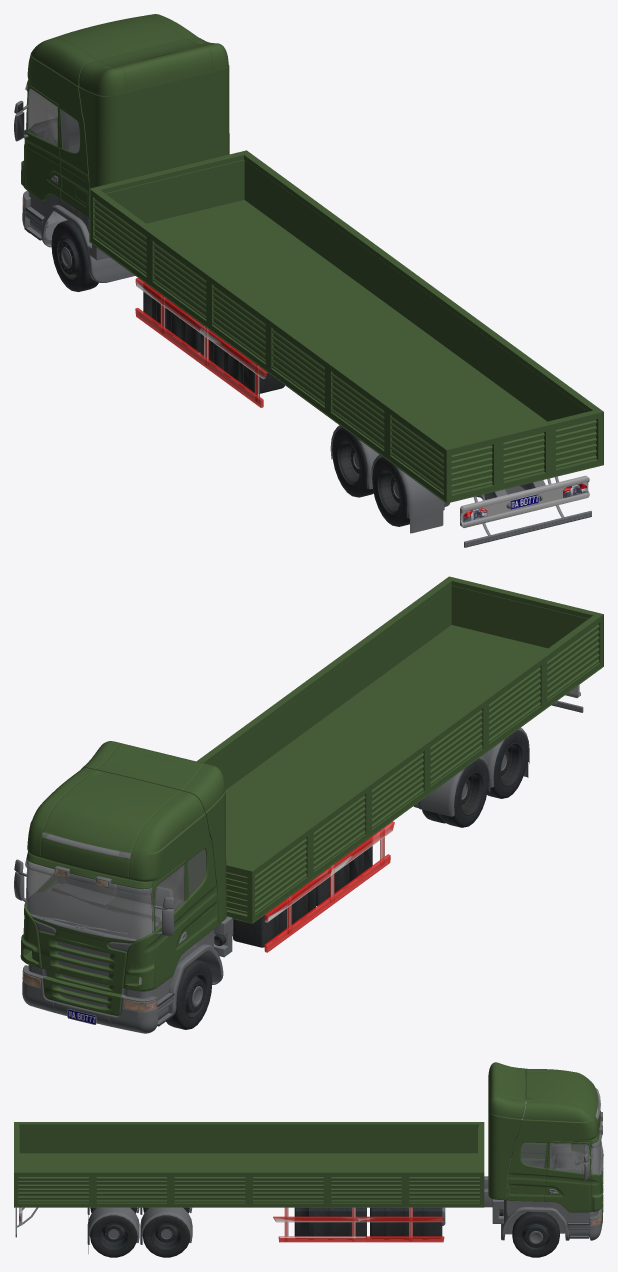
Rendered from truck.gltf.
The picture shows the model from 3 angles, top to bottom: view 1: azimuth 30°, elevation 25°; view 2: azimuth 150°, elevation 25°; view 3: azimuth 270°, elevation 25°; orthographic projection. The views are drawn at different scales.
Parts seen in each view (by area): view 1: 车厢, Obj3d66-1017563-1-590 (×3), dikbu, 车轮毂和箱子, tyre, baoxiangang.1, 后保险杠; view 2: 车厢, Obj3d66-1017563-1-590 (×3), dikbu, 车轮毂和箱子, tyre, baoxiangang.1; view 3: 车厢, Obj3d66-1017563-1-590 (×3), dikbu, 车轮毂和箱子, tyre, baoxiangang.1.
Part boxes in pixels (bbox=[...]): 车厢: bbox=[89, 150, 603, 503]; Obj3d66-1017563-1-590 (×3): bbox=[21, 14, 564, 535]; dikbu: bbox=[14, 100, 591, 547]; 车轮毂和箱子: bbox=[24, 206, 400, 514]; tyre: bbox=[51, 220, 487, 526]; baoxiangang.1: bbox=[135, 278, 267, 407]; 后保险杠: bbox=[460, 475, 589, 527]; 车厢: bbox=[196, 576, 603, 923]; Obj3d66-1017563-1-590 (×3): bbox=[20, 702, 556, 1015]; dikbu: bbox=[14, 700, 583, 1033]; 车轮毂和箱子: bbox=[30, 742, 522, 1026]; tyre: bbox=[166, 730, 527, 1029]; baoxiangang.1: bbox=[264, 821, 394, 952]; 车厢: bbox=[14, 1122, 484, 1207]; Obj3d66-1017563-1-590 (×3): bbox=[17, 1062, 603, 1227]; dikbu: bbox=[15, 1112, 603, 1253]; 车轮毂和箱子: bbox=[98, 1207, 589, 1250]; tyre: bbox=[90, 1207, 559, 1257]; baoxiangang.1: bbox=[273, 1207, 444, 1242].
Size of the model in its own units: 2578 by 3591 by 12168.
13 materials, 9 textured.
